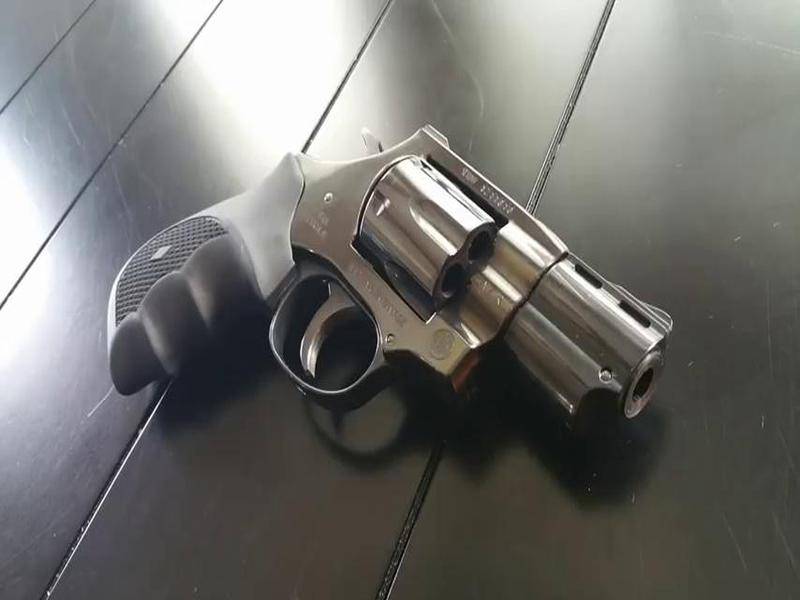Revolver: (109, 103, 688, 504)
